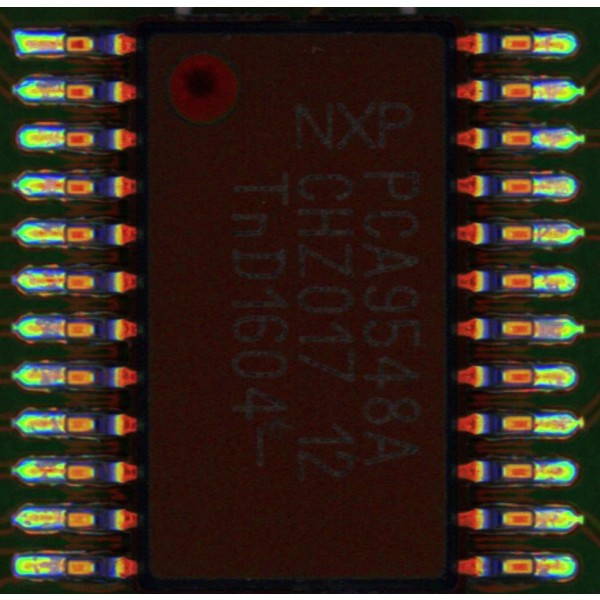Bad_podu: (48, 512, 83, 527), (49, 369, 81, 385), (45, 132, 82, 145), (48, 275, 79, 290), (50, 418, 83, 432), (46, 560, 81, 573), (48, 36, 79, 50), (46, 466, 82, 478), (518, 514, 554, 525), (520, 323, 552, 335), (49, 84, 78, 97), (50, 321, 81, 333), (50, 229, 81, 240), (520, 420, 554, 430), (50, 182, 82, 192), (518, 40, 553, 49), (521, 562, 549, 573), (521, 373, 548, 384), (525, 179, 541, 193)
